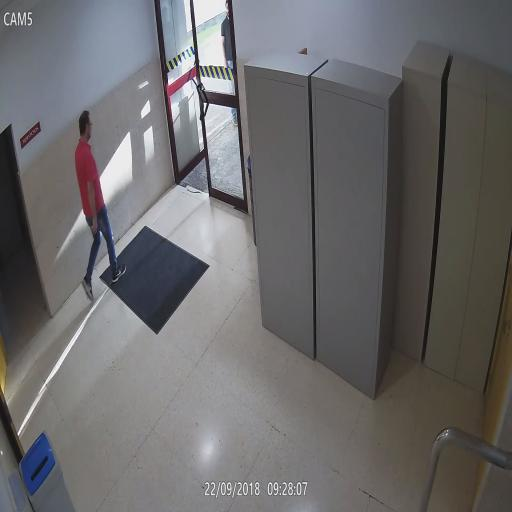Handgun: (89, 215, 101, 245)
